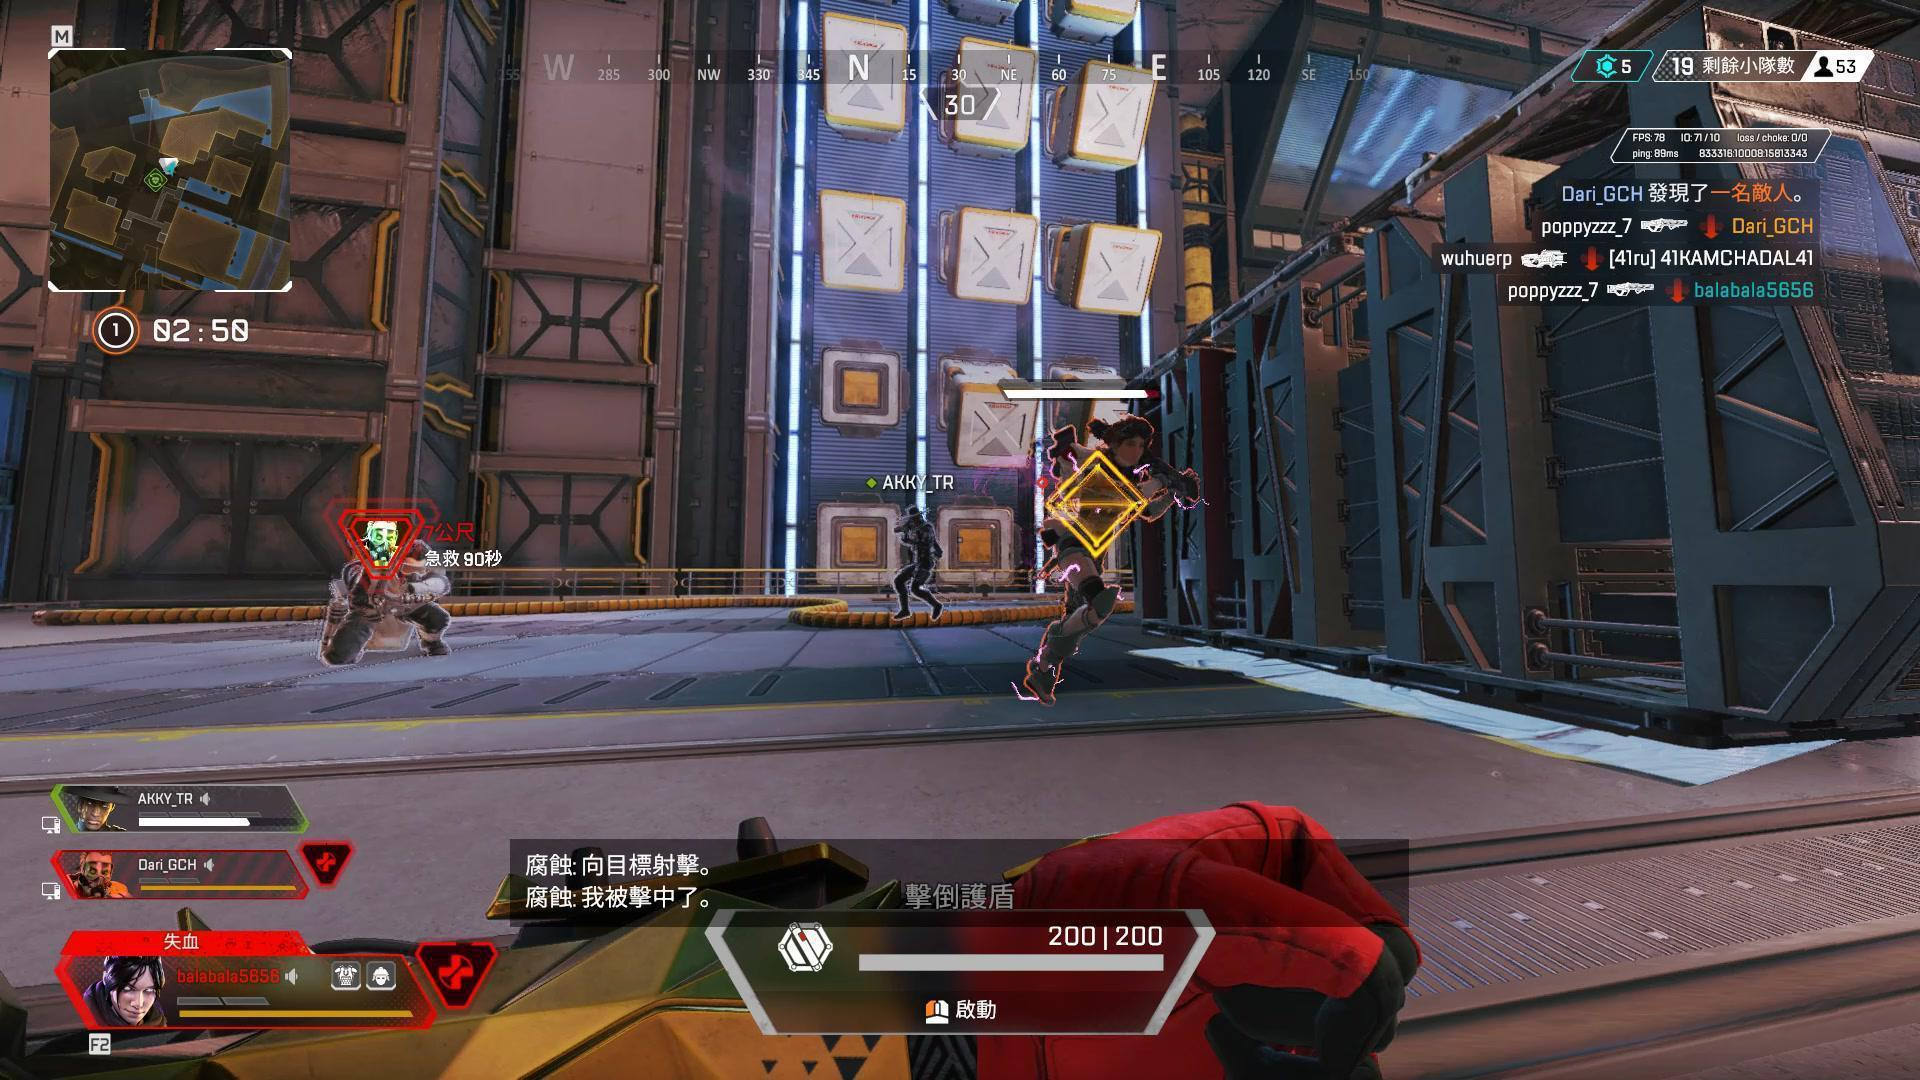avatar: (1020, 412, 1157, 710), (894, 507, 943, 619)
object: (1039, 453, 1148, 558)
